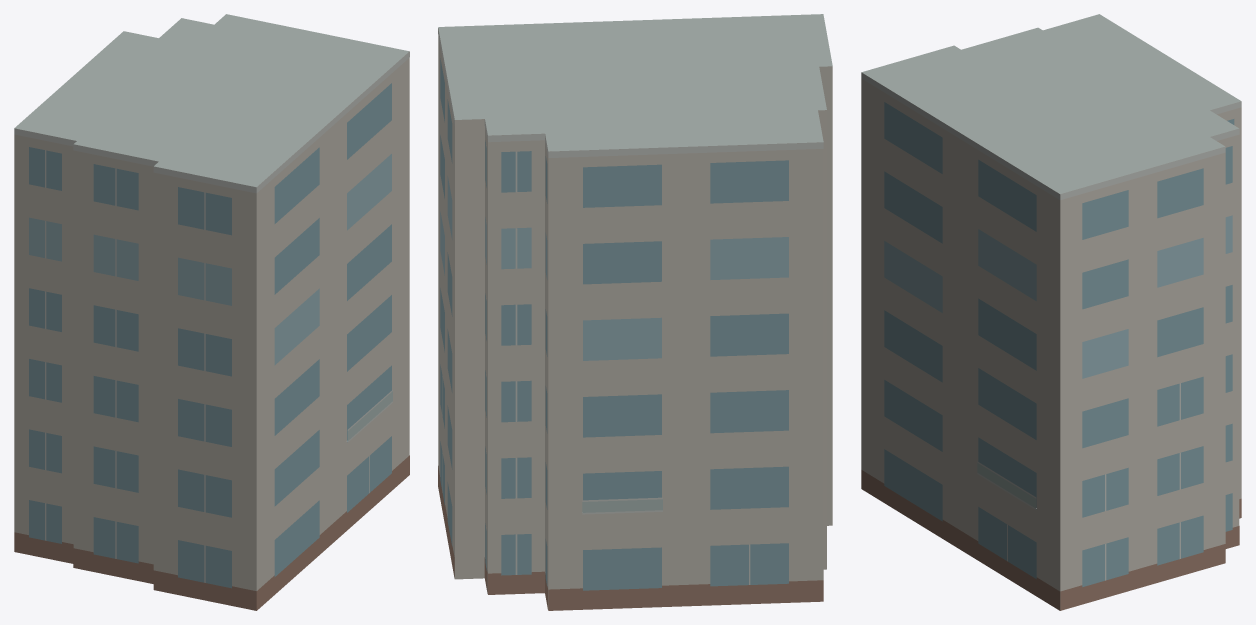
File: survey-upis-32658959.glb
The picture shows the model from 3 angles, left to right: view 1: azimuth 30°, elevation 25°; view 2: azimuth 150°, elevation 25°; view 3: azimuth 270°, elevation 25°; orthographic projection. The views are drawn at different scales.
Parts seen in each view (by area): view 1: survey-upis-32658959.tmp; view 2: survey-upis-32658959.tmp; view 3: survey-upis-32658959.tmp.
Boxes of the visible parts, x1=… form: survey-upis-32658959.tmp: x1=14, y1=14, x2=409, y2=610; survey-upis-32658959.tmp: x1=438, y1=14, x2=832, y2=610; survey-upis-32658959.tmp: x1=861, y1=14, x2=1241, y2=610.
Bounding box in the file's own units: 15.59 × 16.8 × 13.91.
